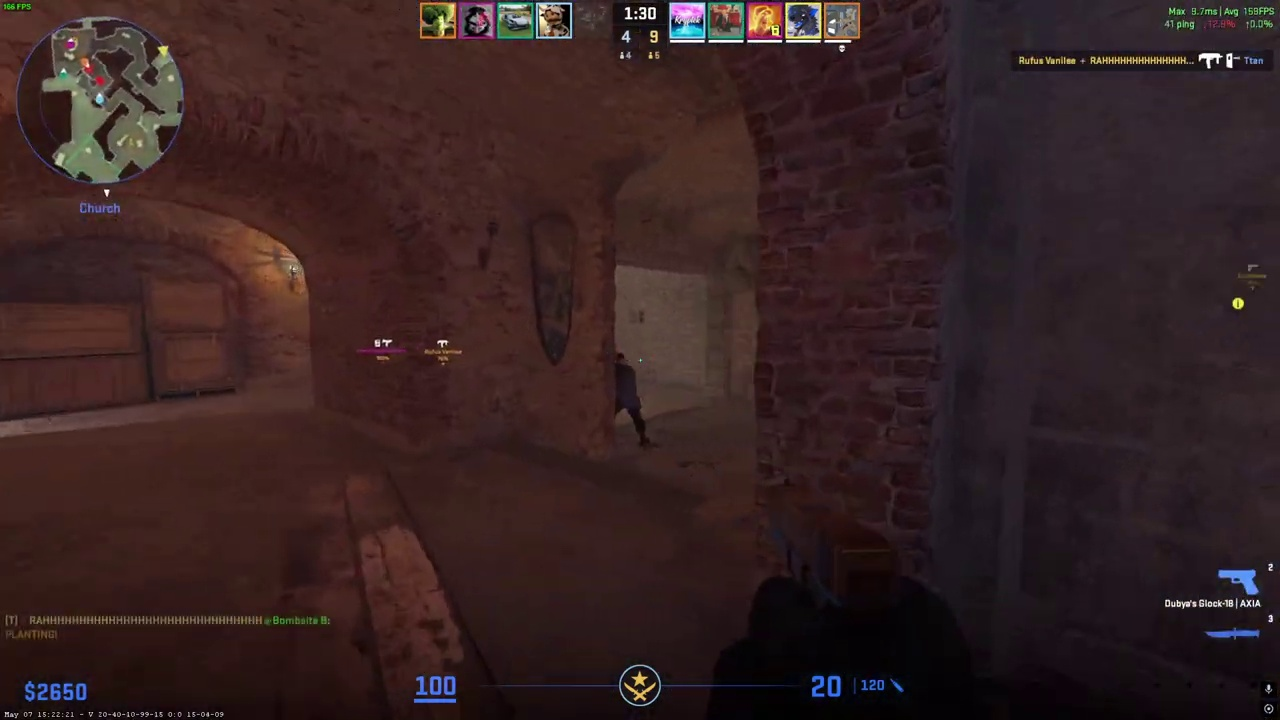CT: (613, 351, 648, 447)
